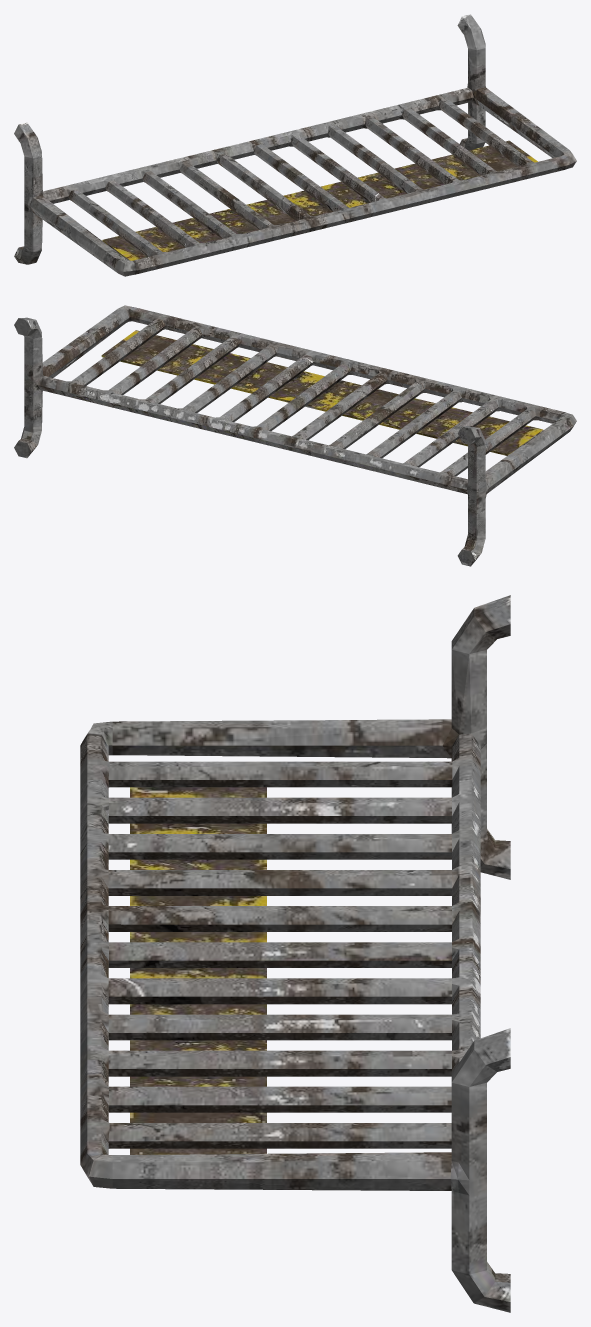
File: guardrail.obj
The picture shows the model from 3 angles, top to bottom: view 1: azimuth 30°, elevation 25°; view 2: azimuth 150°, elevation 25°; view 3: azimuth 270°, elevation 25°; orthographic projection. The views are drawn at different scales.
Visible parts, largest first — view 1: Object.1, Object.2; view 2: Object.1, Object.2; view 3: Object.1, Object.2.
Boxes of the visible parts, left/top/right/bottom form: Object.1: left=14, top=14, right=576, bottom=276; Object.2: left=102, top=140, right=537, bottom=260; Object.1: left=14, top=305, right=576, bottom=566; Object.2: left=101, top=330, right=543, bottom=455; Object.1: left=80, top=595, right=510, bottom=1312; Object.2: left=130, top=787, right=266, bottom=1154.
Bounding box in the file's own units: 249174 × 71317 × 100714.
Materials: 1 (1 with a texture image).
